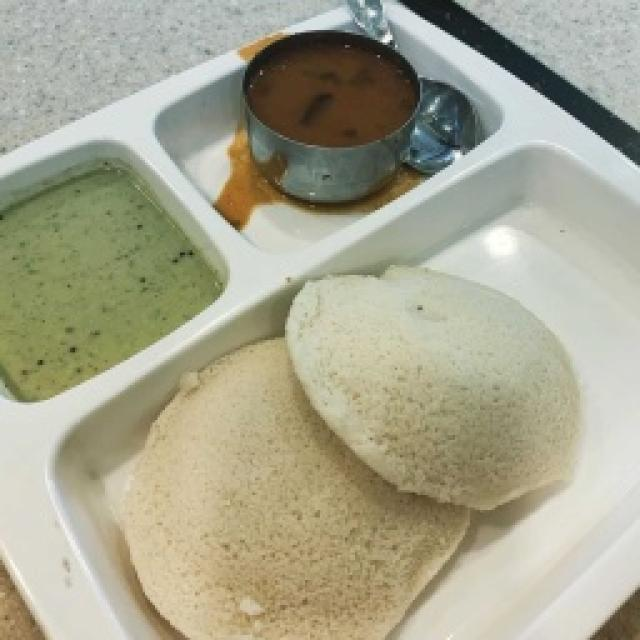idli: (123, 338, 467, 639), (285, 268, 579, 509)
